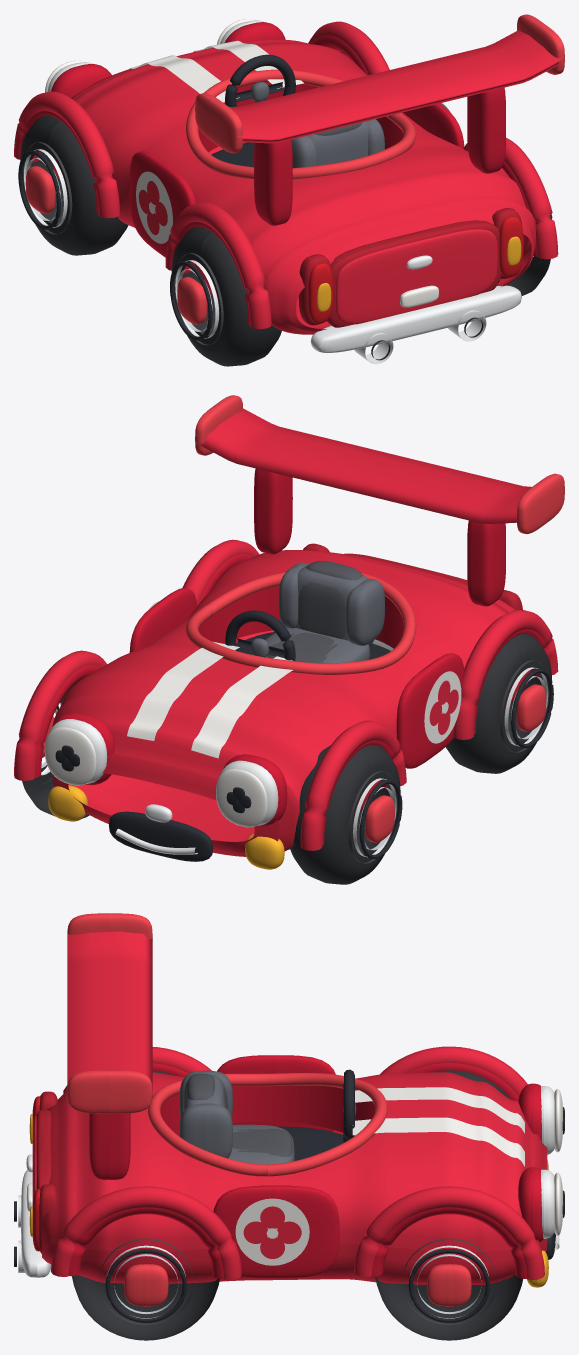
File: red-kart-v3.glb
The picture shows the model from 3 angles, top to bottom: view 1: azimuth 30°, elevation 25°; view 2: azimuth 150°, elevation 25°; view 3: azimuth 270°, elevation 25°; orthographic projection.
Parts seen in each view (by area): view 1: Red Kart v2; view 2: Red Kart v2; view 3: Red Kart v2.
Part boxes in pixels (x1,y1,x2,y2): Red Kart v2: (14,14,564,366); Red Kart v2: (14,395,564,884); Red Kart v2: (14,913,564,1340).
Size of the model in its own units: 2.59 by 1.94 by 3.49.
